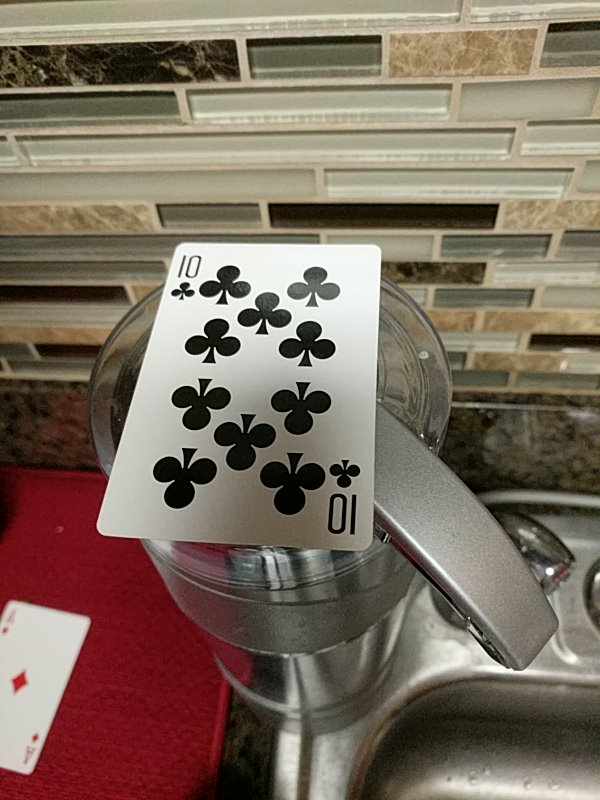Clubs: (98, 240, 387, 553)
